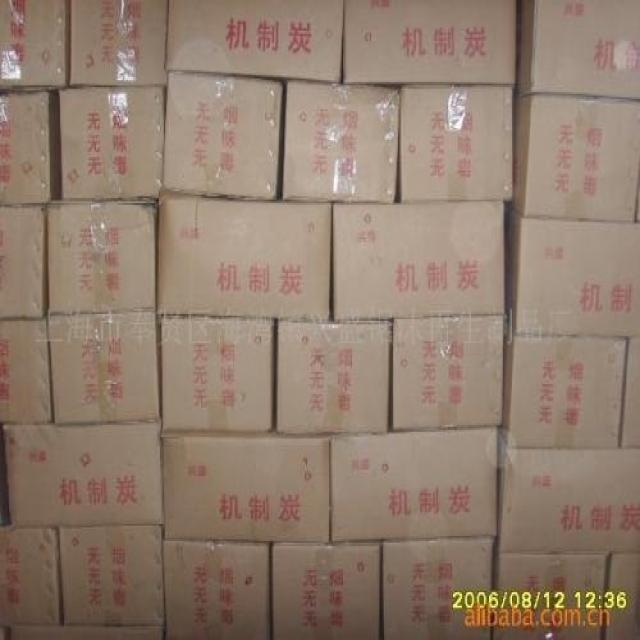Carton: (283, 80, 637, 428), (55, 0, 342, 312), (159, 314, 330, 637), (3, 420, 163, 625), (329, 427, 494, 538), (499, 445, 639, 551), (342, 0, 515, 79), (506, 333, 622, 444), (45, 312, 156, 420), (46, 203, 155, 311), (518, 2, 639, 96), (278, 324, 384, 430), (270, 544, 378, 638)
